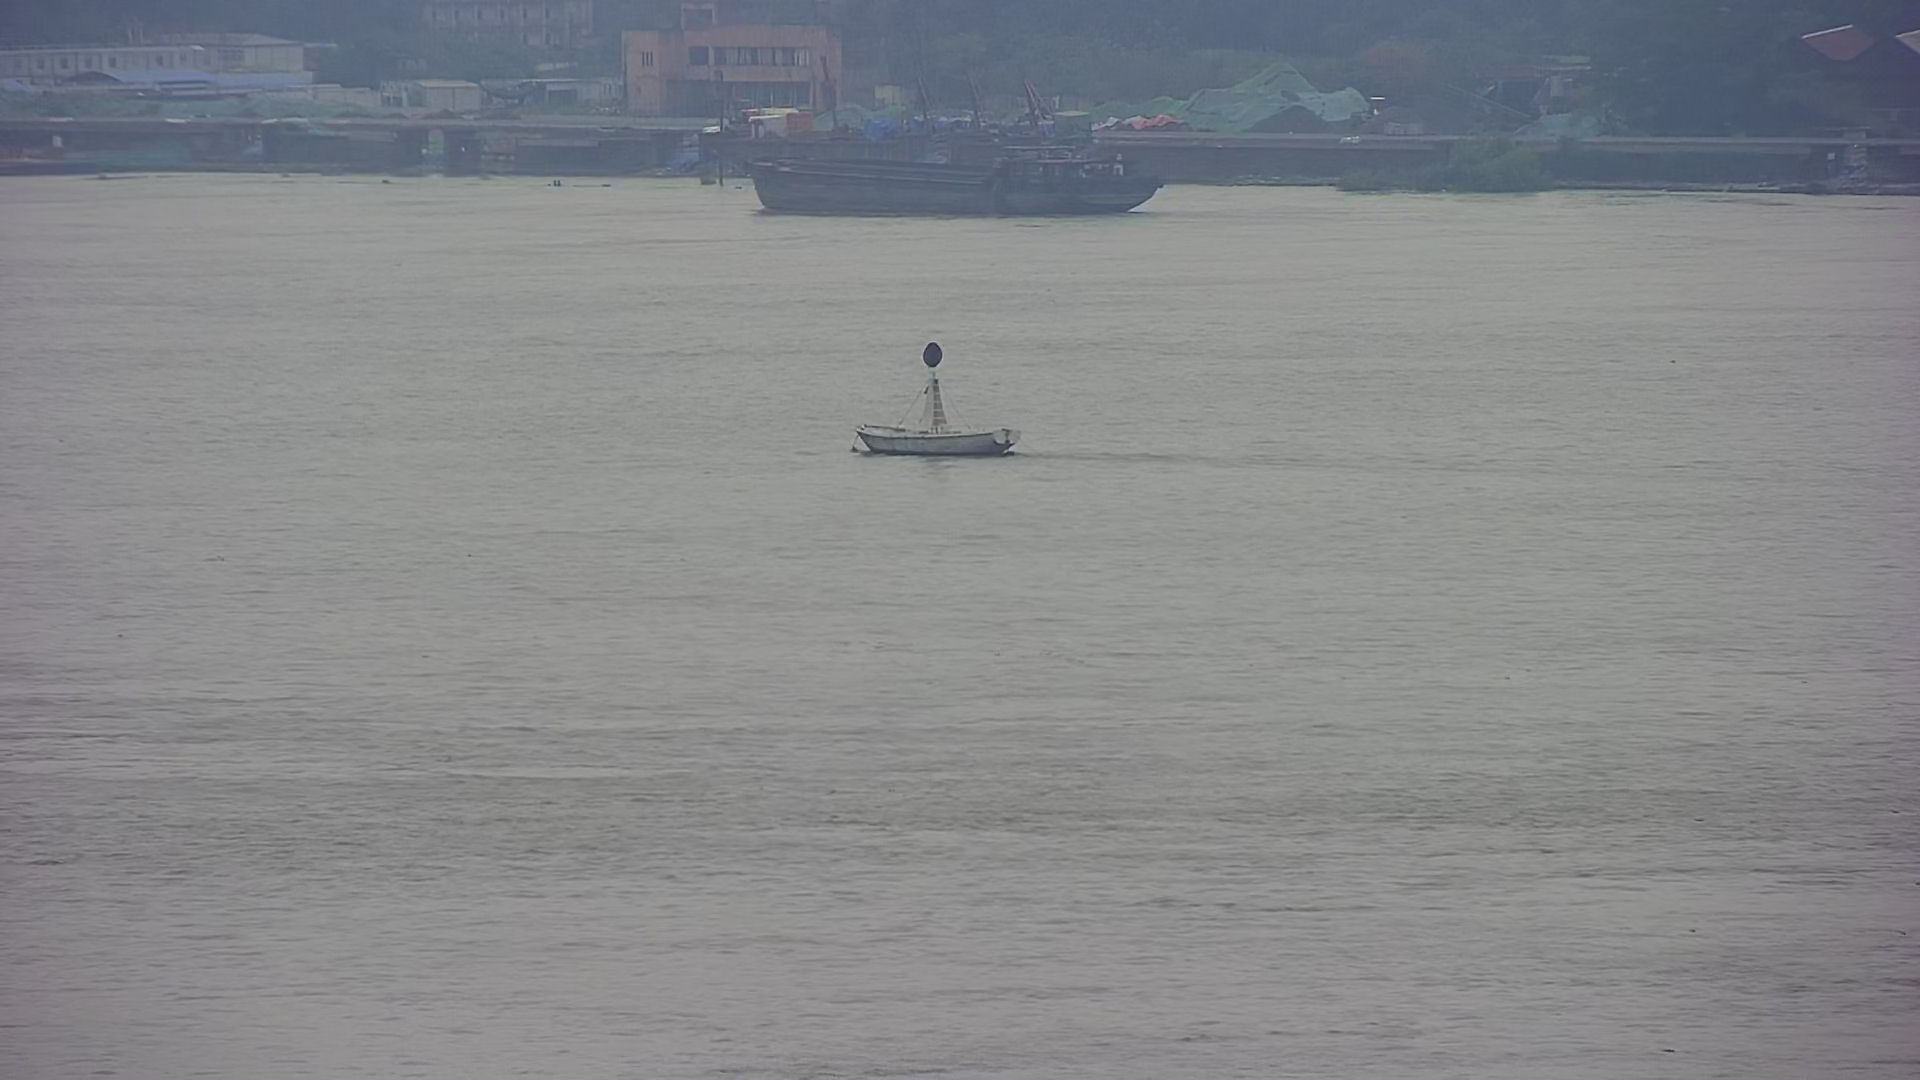boat: (851, 338, 1027, 462)
ship: (750, 129, 1167, 223)
